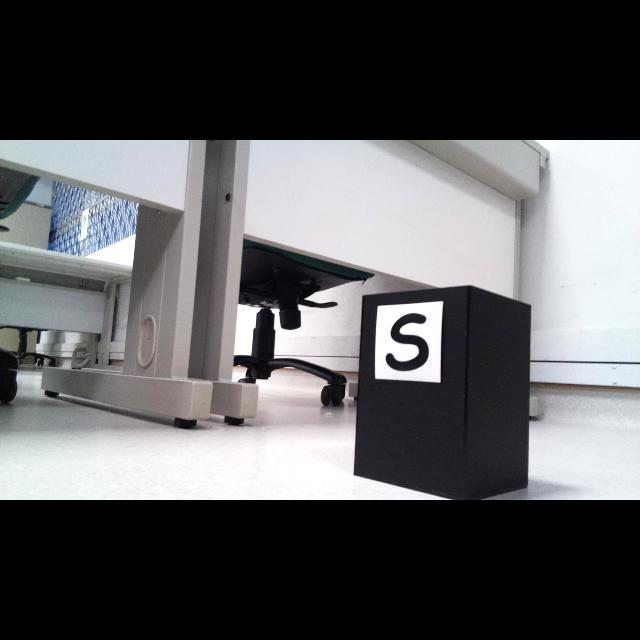S: (386, 313, 429, 371)
